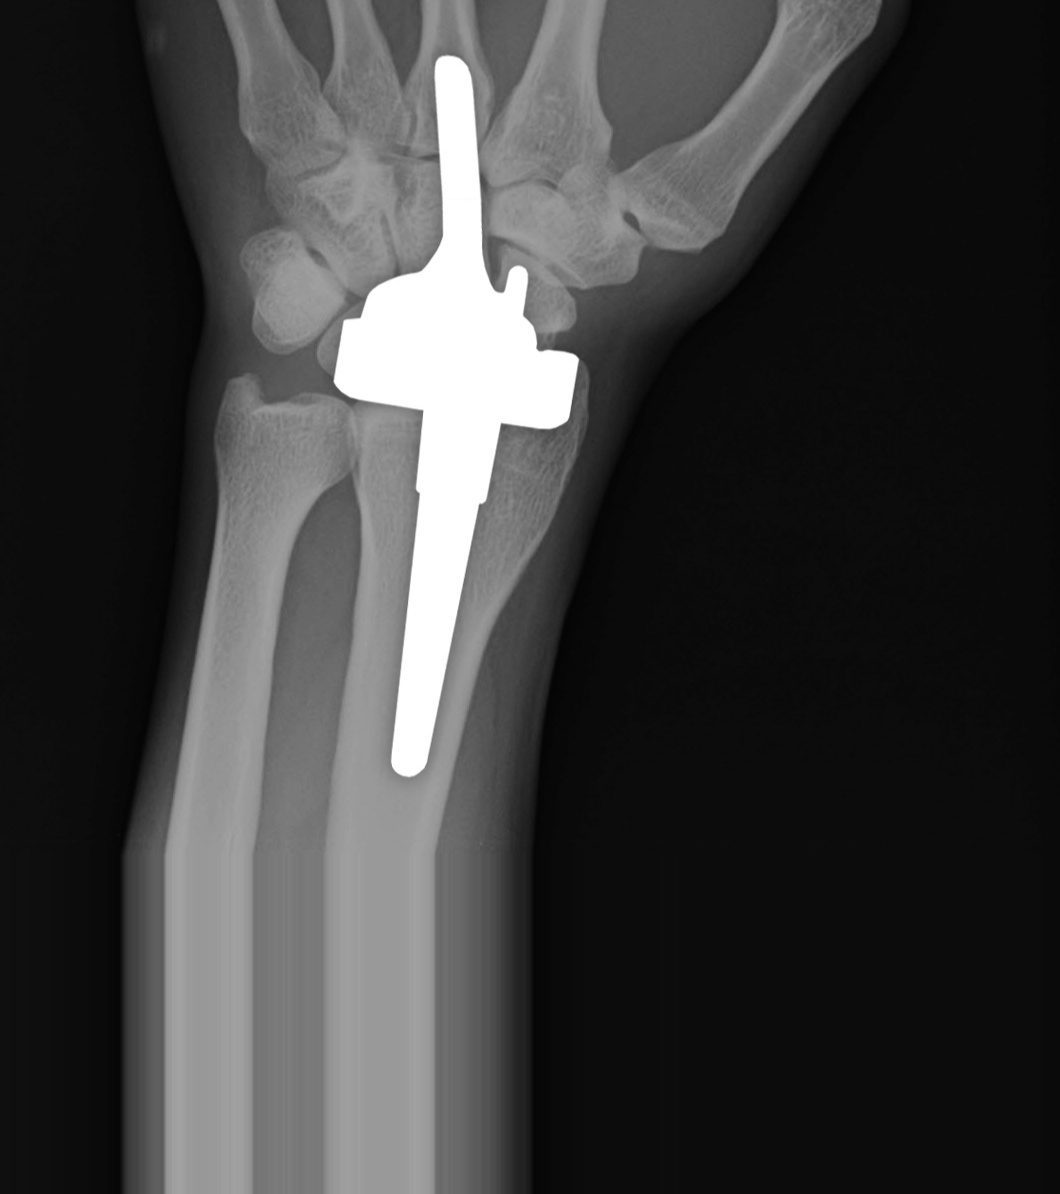Wrist-Biax-DePuuy: (323, 38, 581, 793)
